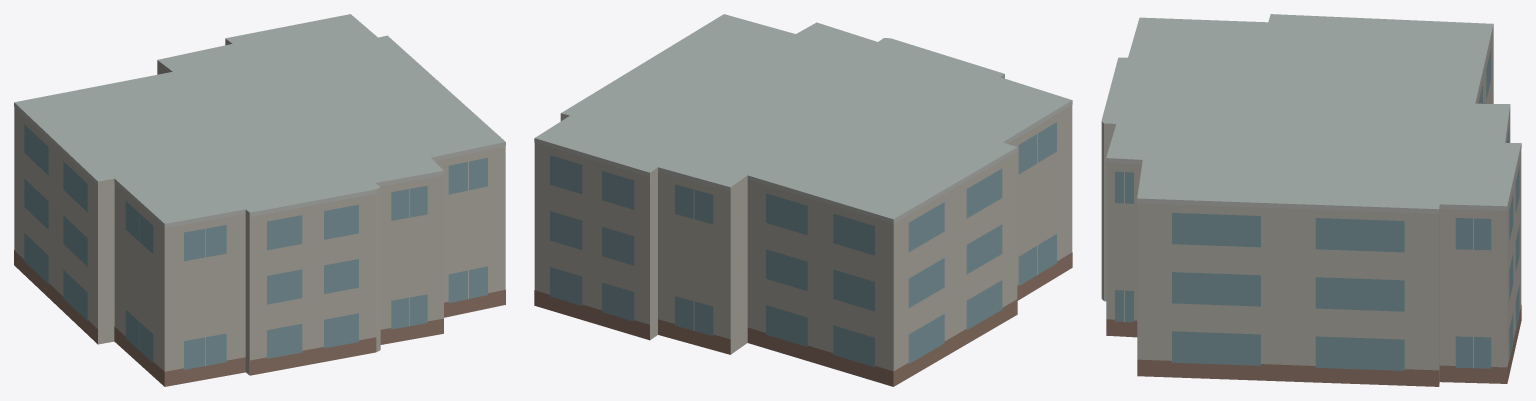
Rendered from survey-upis-32995655.glb.
3 views of the same model, side by side, from view 1: azimuth 30°, elevation 25°; view 2: azimuth 150°, elevation 25°; view 3: azimuth 270°, elevation 25° (orthographic). The views are drawn at different scales.
Visible parts, largest first — view 1: survey-upis-32995655.tmp; view 2: survey-upis-32995655.tmp; view 3: survey-upis-32995655.tmp.
Boxes of the visible parts, bbox=[...] form: survey-upis-32995655.tmp: bbox=[14, 14, 505, 386]; survey-upis-32995655.tmp: bbox=[534, 14, 1072, 386]; survey-upis-32995655.tmp: bbox=[1101, 14, 1521, 386].
Size of the model in its own units: 21.57 by 9.15 by 19.61.
